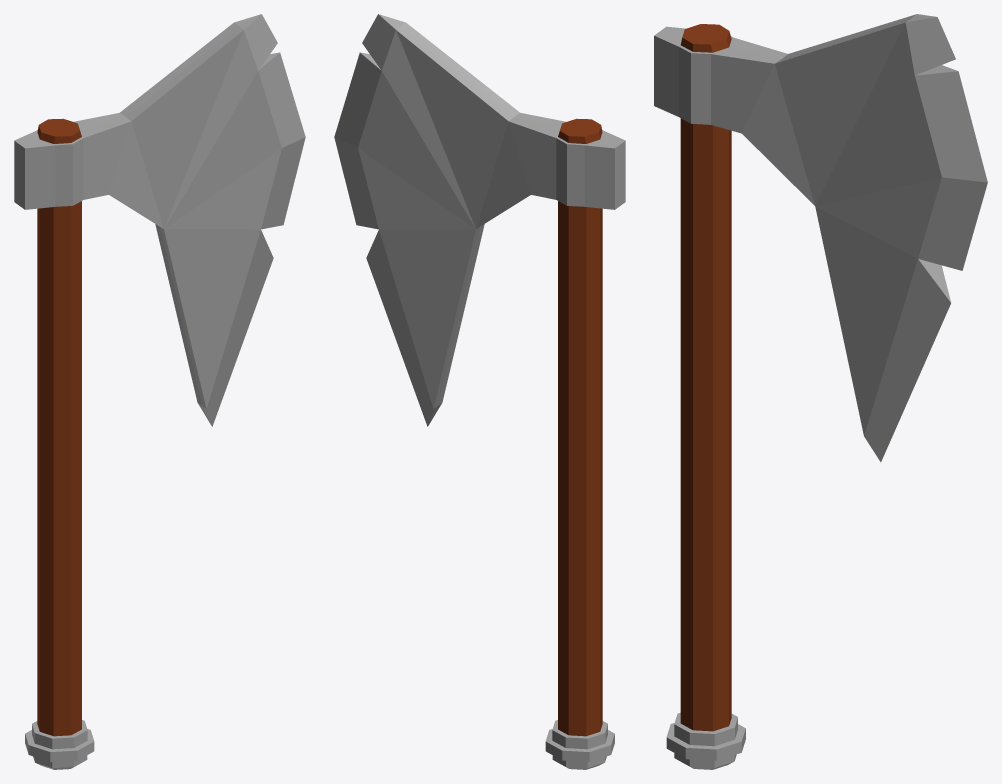
File: axe_1.fbx
3 renders of one model, left to right at view 1: azimuth 30°, elevation 25°; view 2: azimuth 150°, elevation 25°; view 3: azimuth 330°, elevation 25°, orthographic. The views are drawn at different scales.
Visible parts, largest first — view 1: Cylinder; view 2: Cylinder; view 3: Cylinder.
Part boxes in pixels (bbox=[...]): Cylinder: bbox=[14, 14, 305, 769]; Cylinder: bbox=[334, 14, 625, 769]; Cylinder: bbox=[654, 14, 987, 769].
Size of the model in its own units: 2.08 by 4.85 by 0.4515.
